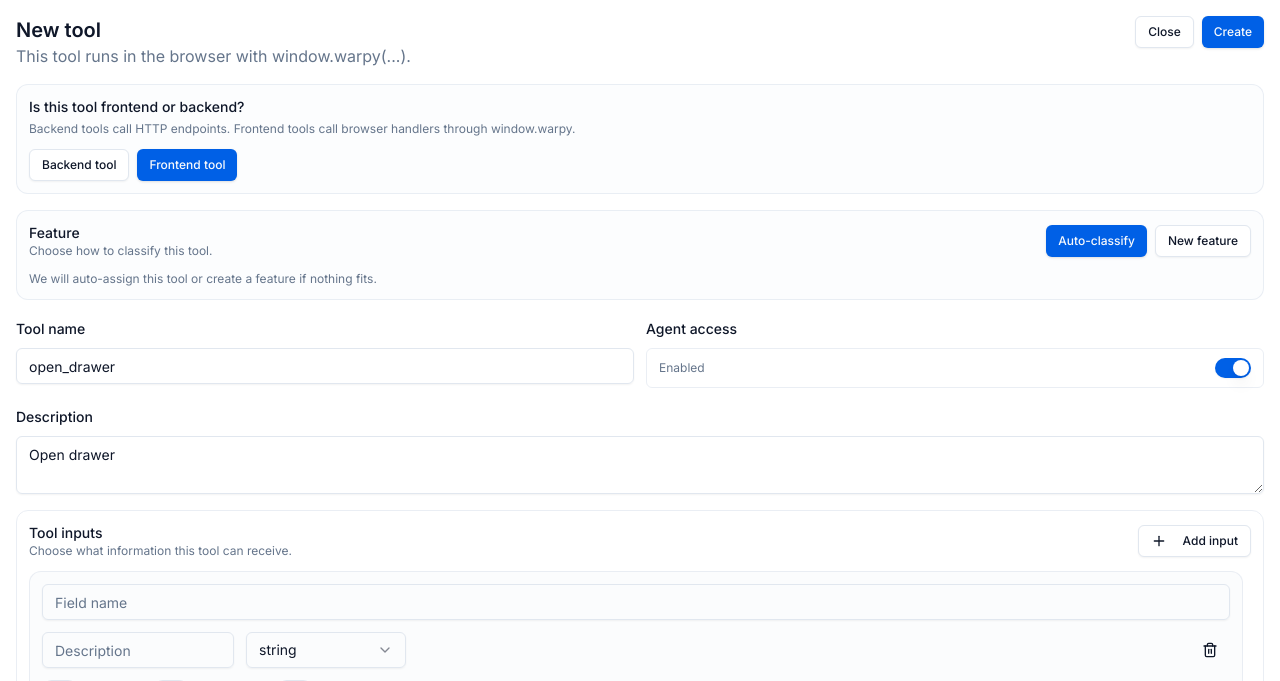
Scenario: ToolEditor validation UI › shows frontend parameter validation errors
Click the button with test id "save-tool".
click(1233, 32)  # box [1202,16,1264,48]
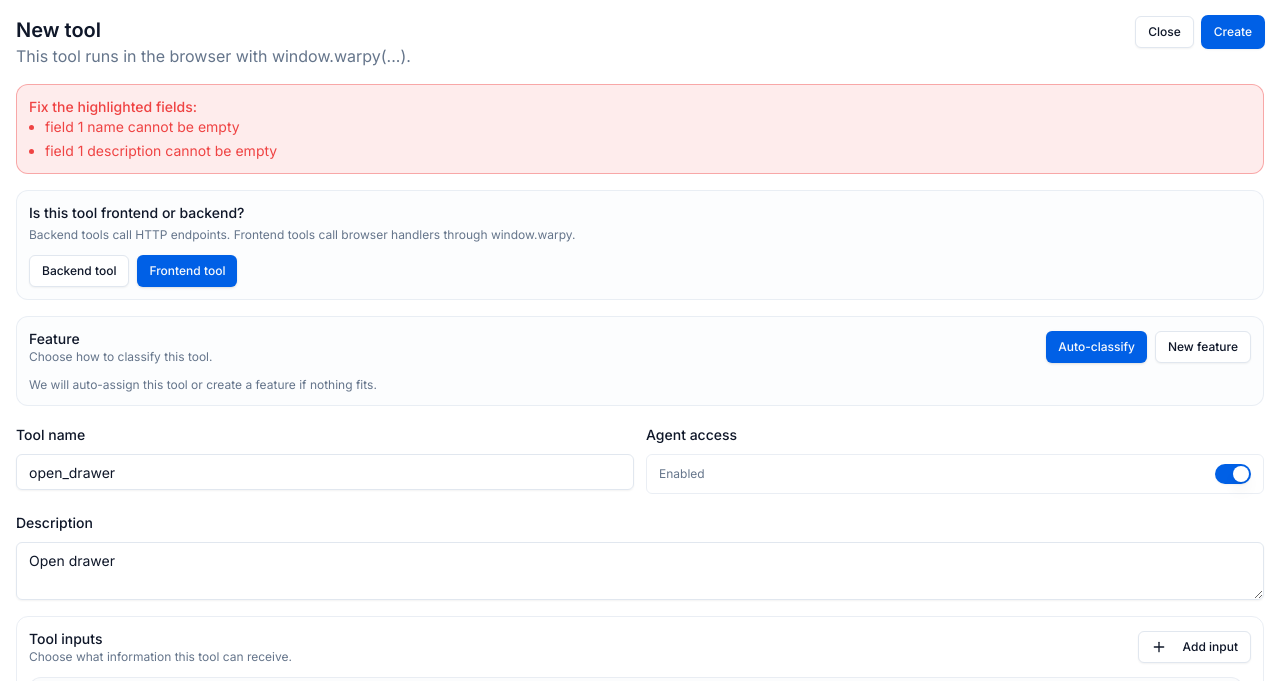
Now the element with test id "tool-validation-banner" shows "field 1 name cannot be empty", box [45,118,240,135]
